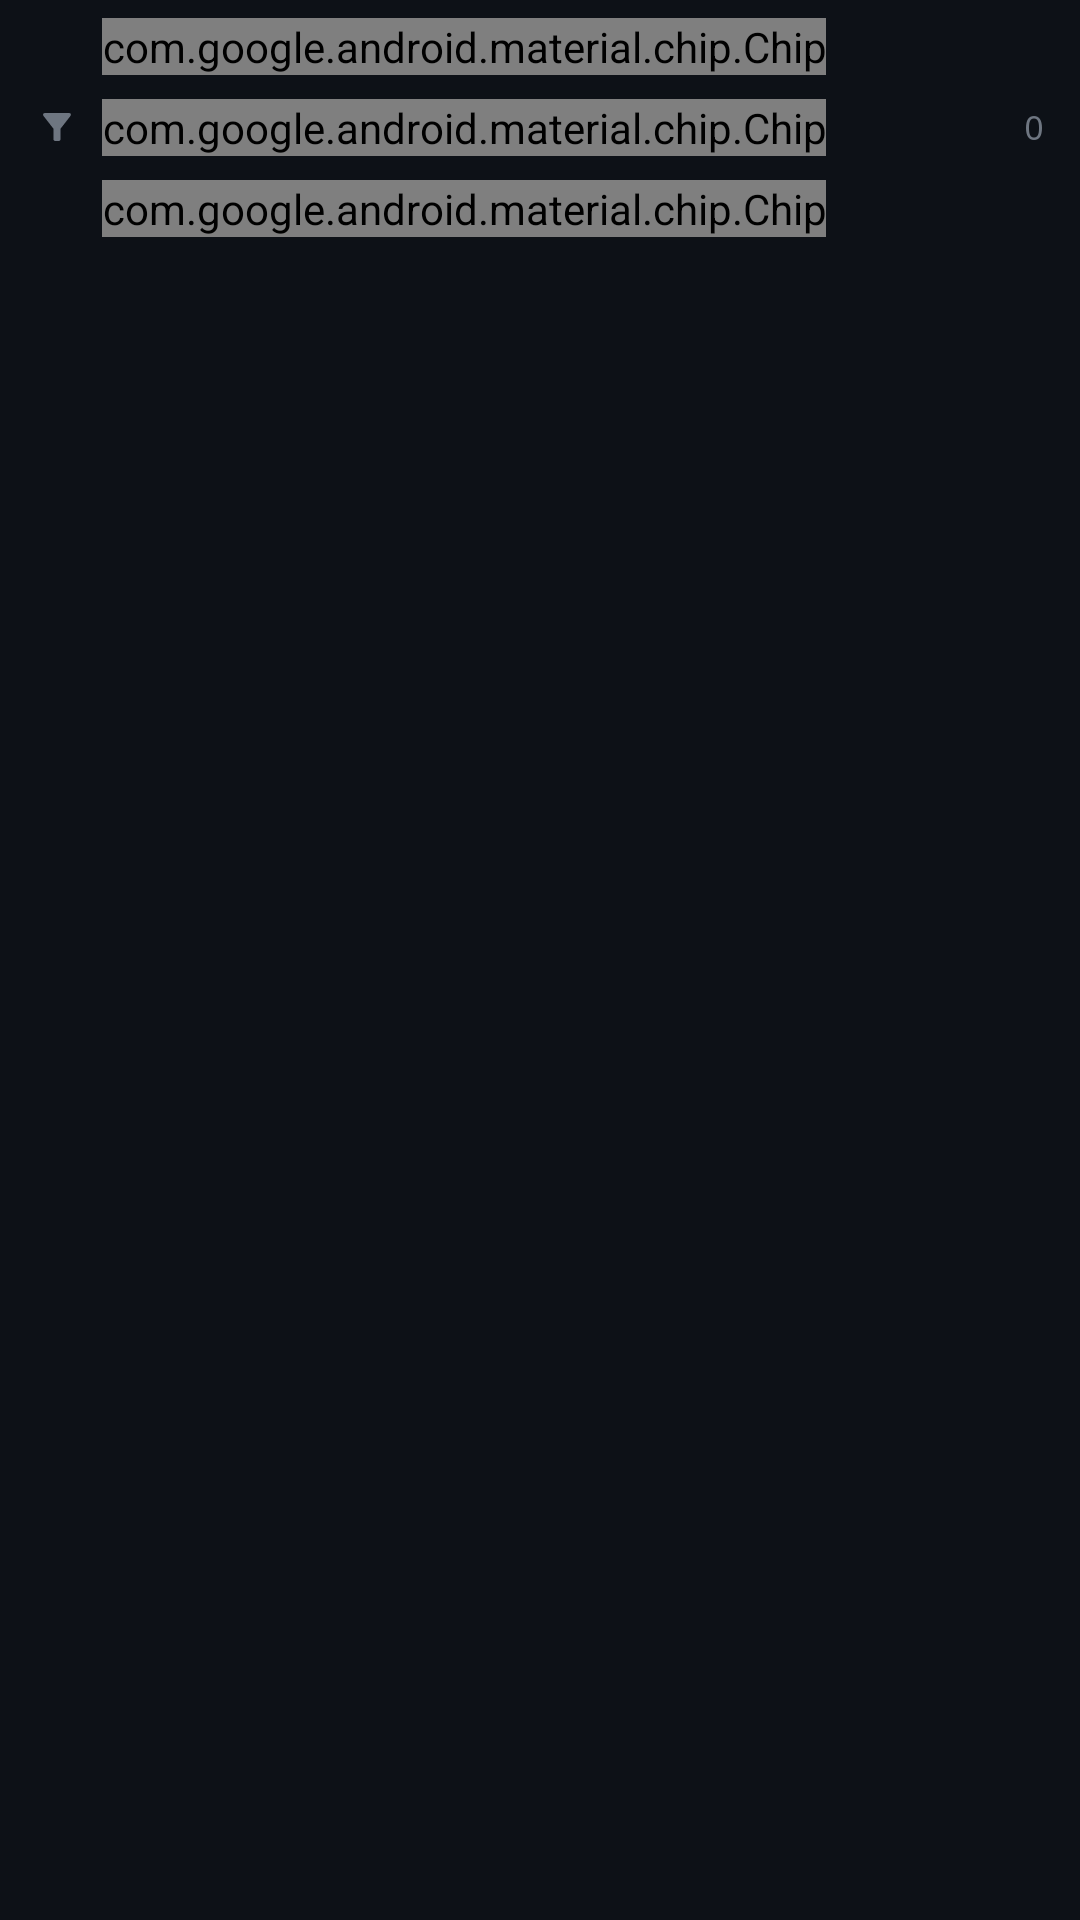

Where to tap for icons on this 1080w x 1920h app screen, as (x,y):
filter: (57,127)
